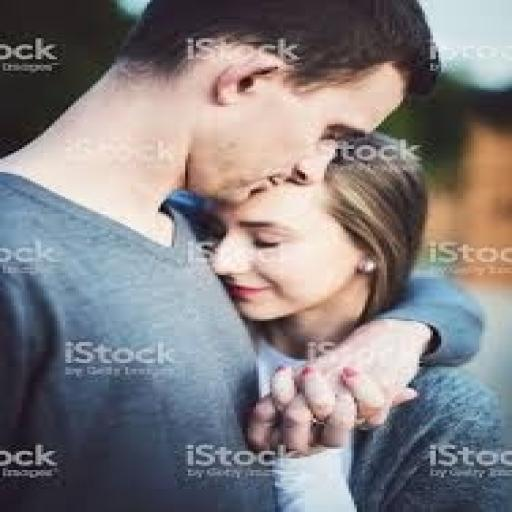hugging: (0, 0, 507, 510), (199, 128, 506, 510)
